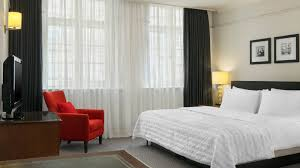chair: (41, 88, 105, 153)
